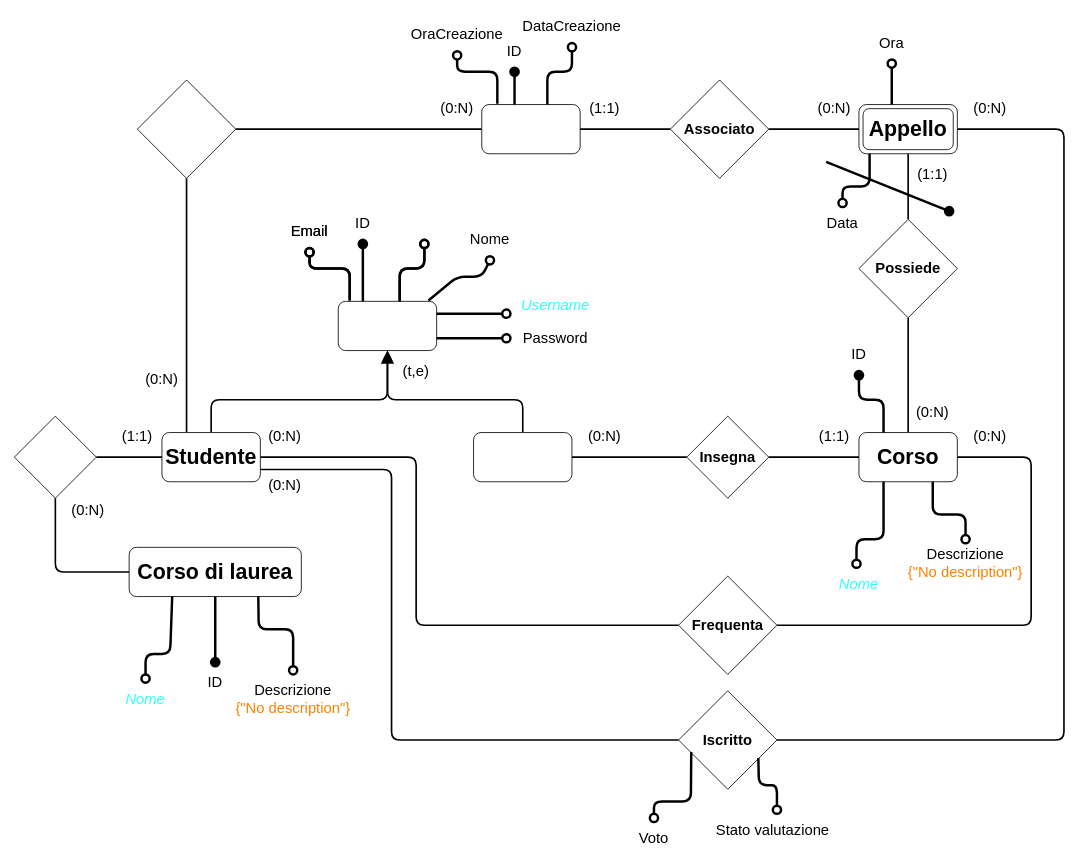
Some shapes in this 1080 by 864 pixel diagram are drawn without their labels. Here are the shapes that lost their labels. From the top down, the box of each, then its label:
(137, 79, 236, 178): Riferito
(481, 104, 580, 154): Verbale
(337, 301, 437, 351): Utente
(14, 415, 96, 498): segue
(473, 432, 572, 482): Docente
